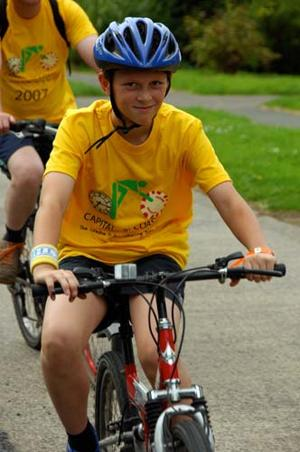person: (32, 18, 276, 450)
